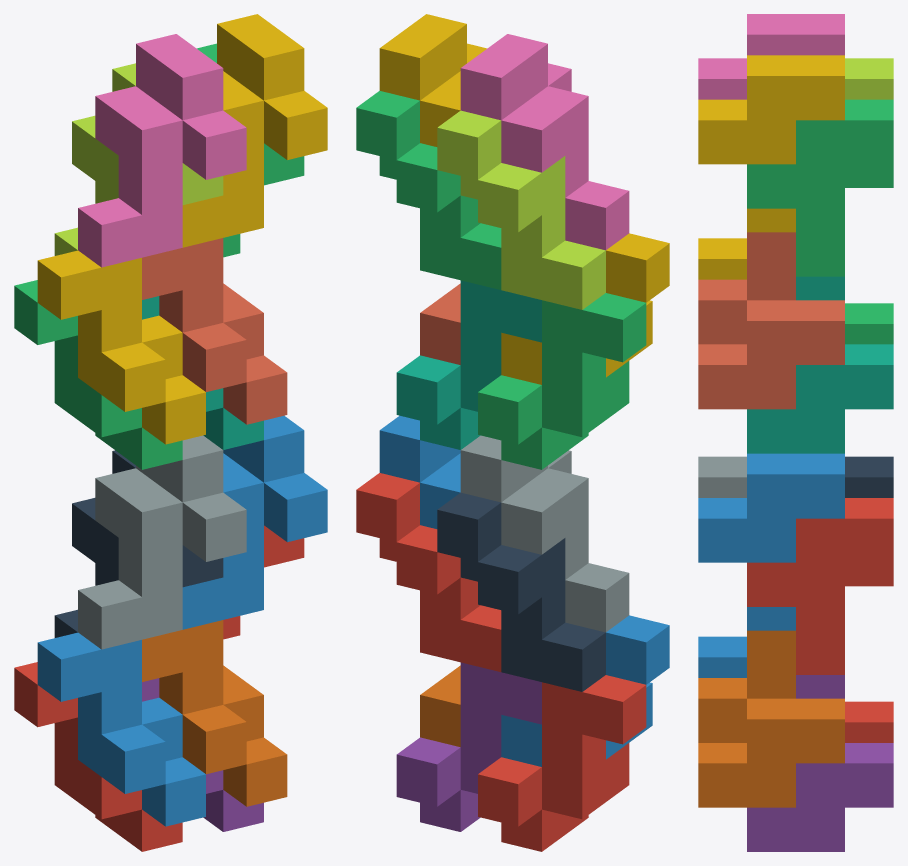
File: tiling.obj
The picture shows the model from 3 angles, left to right: view 1: azimuth 30°, elevation 25°; view 2: azimuth 150°, elevation 25°; view 3: azimuth 270°, elevation 25°; orthographic projection. The views are drawn at different scales.
Visible parts, largest first — view 1: copy_2_domain_4, copy_2_domain_2, copy_1_domain_2, copy_1_domain_4, copy_2_domain_8, copy_1_domain_8, copy_1_domain_6, copy_2_domain_6, copy_1_domain_1, copy_1_domain_3, copy_2_domain_3, copy_2_domain_1 (+4 smaller); view 2: copy_1_domain_3, copy_1_domain_1, copy_2_domain_4, copy_2_domain_1, copy_2_domain_3, copy_2_domain_2, copy_2_domain_7, copy_2_domain_5, copy_1_domain_5, copy_1_domain_7, copy_2_domain_8, copy_1_domain_4 (+4 smaller); view 3: copy_1_domain_6, copy_1_domain_8, copy_2_domain_5, copy_2_domain_7, copy_2_domain_8, copy_2_domain_6, copy_1_domain_7, copy_1_domain_5, copy_2_domain_4, copy_1_domain_1, copy_1_domain_2, copy_1_domain_3 (+4 smaller).
Boxes of the visible parts, x1=… form: copy_2_domain_4: x1=78, y1=34, x2=246, y2=267; copy_2_domain_2: x1=78, y1=435, x2=246, y2=649; copy_1_domain_2: x1=37, y1=632, x2=205, y2=826; copy_1_domain_4: x1=37, y1=250, x2=205, y2=444; copy_2_domain_8: x1=182, y1=14, x2=327, y2=247; copy_1_domain_8: x1=142, y1=238, x2=287, y2=424; copy_1_domain_6: x1=142, y1=620, x2=287, y2=806; copy_2_domain_6: x1=182, y1=415, x2=327, y2=629; copy_1_domain_1: x1=14, y1=662, x2=182, y2=851; copy_1_domain_3: x1=14, y1=280, x2=182, y2=469; copy_2_domain_3: x1=54, y1=63, x2=223, y2=255; copy_2_domain_1: x1=54, y1=450, x2=223, y2=637; copy_1_domain_3: x1=478, y1=293, x2=646, y2=469; copy_1_domain_1: x1=478, y1=675, x2=646, y2=851; copy_2_domain_4: x1=460, y1=34, x2=629, y2=250; copy_2_domain_1: x1=437, y1=492, x2=605, y2=691; copy_2_domain_3: x1=437, y1=110, x2=605, y2=309; copy_2_domain_2: x1=460, y1=435, x2=629, y2=632; copy_2_domain_7: x1=356, y1=90, x2=501, y2=289; copy_2_domain_5: x1=356, y1=473, x2=501, y2=671; copy_1_domain_5: x1=396, y1=662, x2=541, y2=831; copy_1_domain_7: x1=396, y1=280, x2=541, y2=449; copy_2_domain_8: x1=379, y1=14, x2=486, y2=146; copy_1_domain_4: x1=501, y1=233, x2=669, y2=384; copy_1_domain_6: x1=698, y1=630, x2=844, y2=807; copy_1_domain_8: x1=698, y1=232, x2=844, y2=409; copy_2_domain_5: x1=747, y1=498, x2=893, y2=674; copy_2_domain_7: x1=747, y1=99, x2=893, y2=276; copy_2_domain_8: x1=698, y1=55, x2=844, y2=232; copy_2_domain_6: x1=698, y1=453, x2=844, y2=630; copy_1_domain_7: x1=747, y1=276, x2=893, y2=453; copy_1_domain_5: x1=747, y1=675, x2=893, y2=851; copy_2_domain_4: x1=698, y1=14, x2=844, y2=99; copy_1_domain_1: x1=845, y1=701, x2=893, y2=742; copy_1_domain_2: x1=698, y1=636, x2=746, y2=677; copy_1_domain_3: x1=845, y1=303, x2=893, y2=344.
Size of the model in its own units: 6 by 18 by 4.
